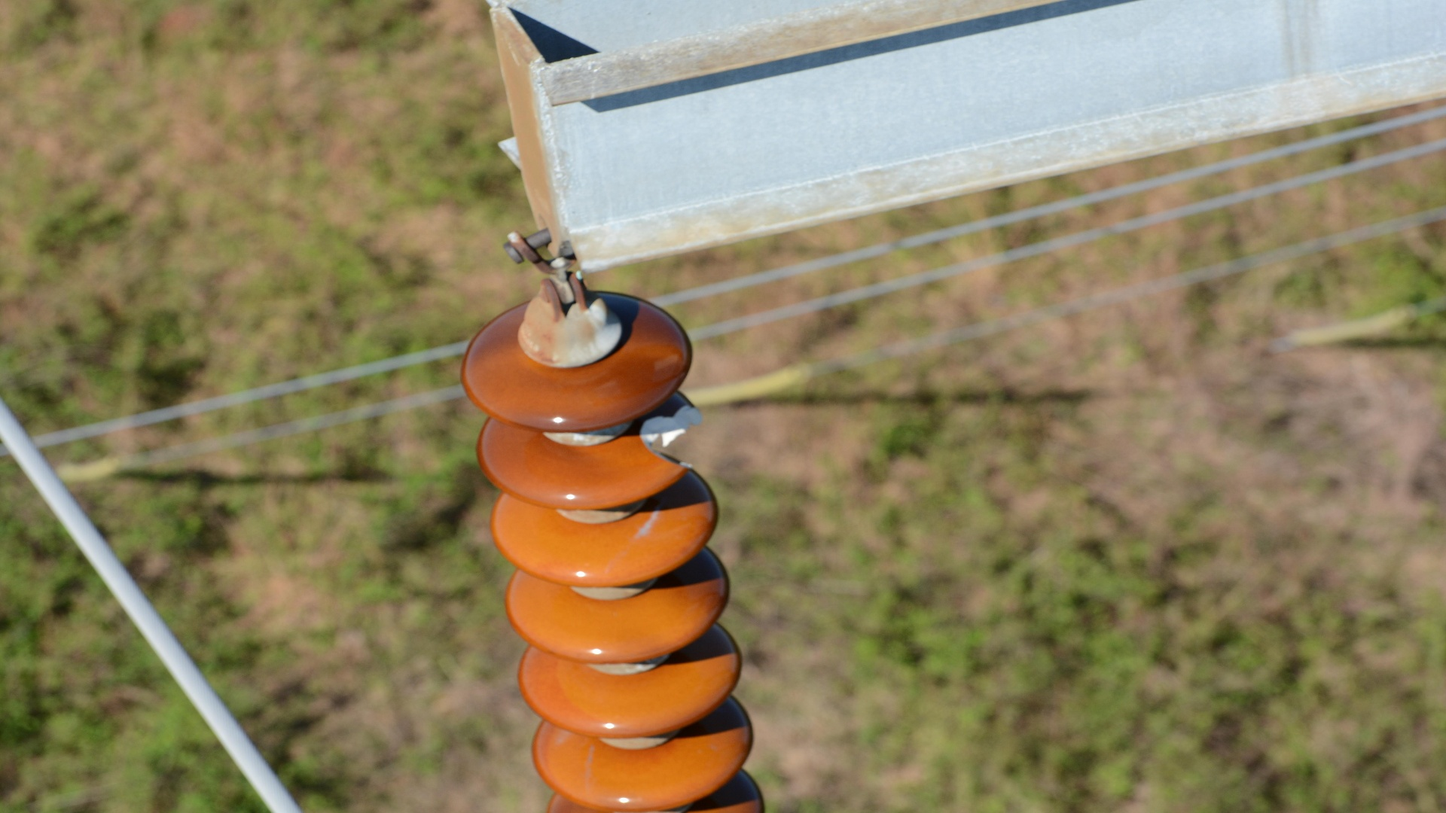insulator: (454, 287, 772, 813)
